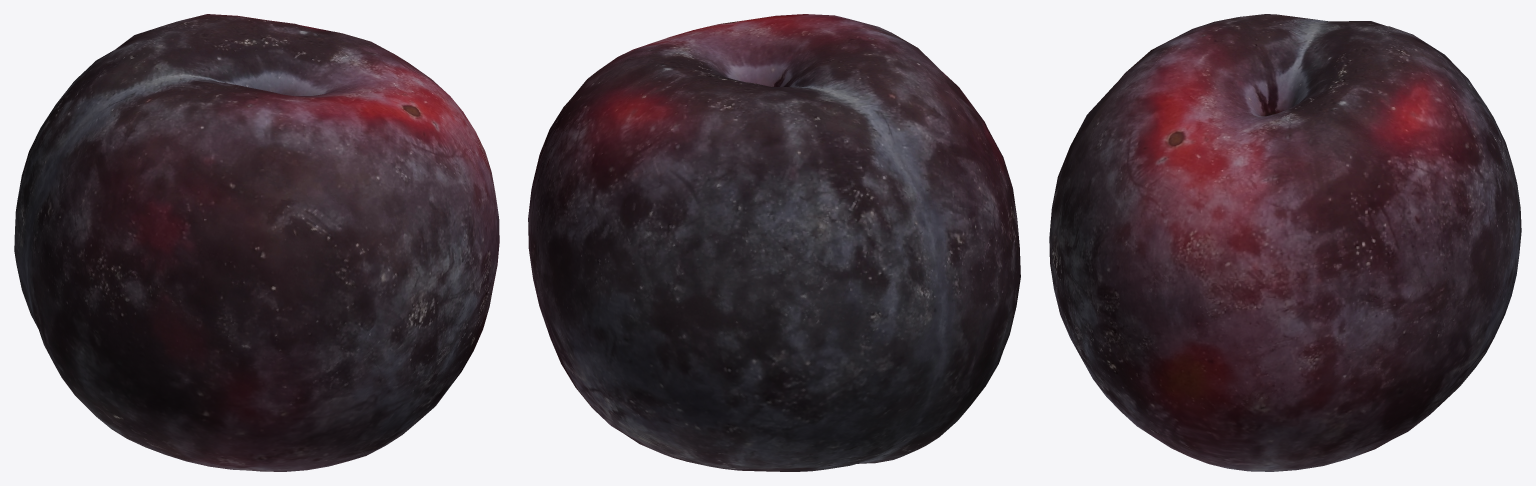
Rendered from kiri_prune.gltf.
The picture shows the model from 3 angles, left to right: view 1: azimuth 30°, elevation 25°; view 2: azimuth 150°, elevation 25°; view 3: azimuth 270°, elevation 25°; orthographic projection. The views are drawn at different scales.
Parts seen in each view (by area): view 1: A125_Plum; view 2: A125_Plum; view 3: A125_Plum.
Boxes of the visible parts, left/top/right/bottom form: A125_Plum: left=14, top=14, right=499, bottom=471; A125_Plum: left=528, top=14, right=1020, bottom=471; A125_Plum: left=1049, top=14, right=1521, bottom=471.
Size of the model in its own units: 0.0495 by 0.0435 by 0.0492.
1 material, 1 textured.
